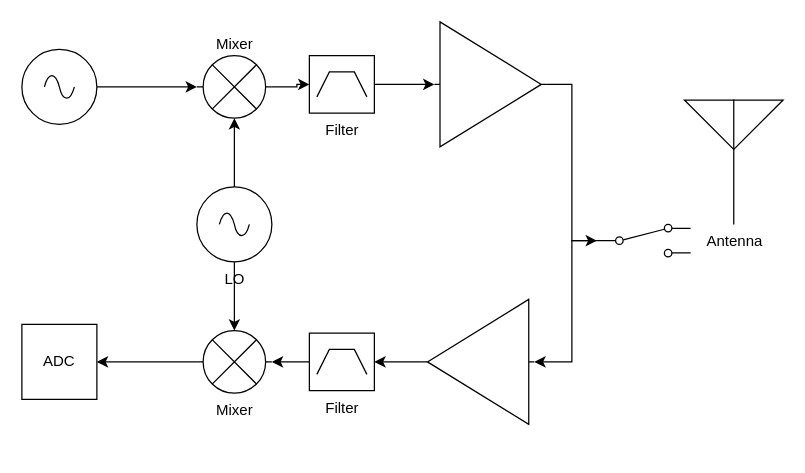
Image size: 805x473. Some labels were removed from this diagram. Here are the shapes that lost their labels. From the top down, the centre of each, then its label:
the point at 59,86: DAC
the point at 490,84: Power amplifier
the point at 477,361: Low noise amplifier
